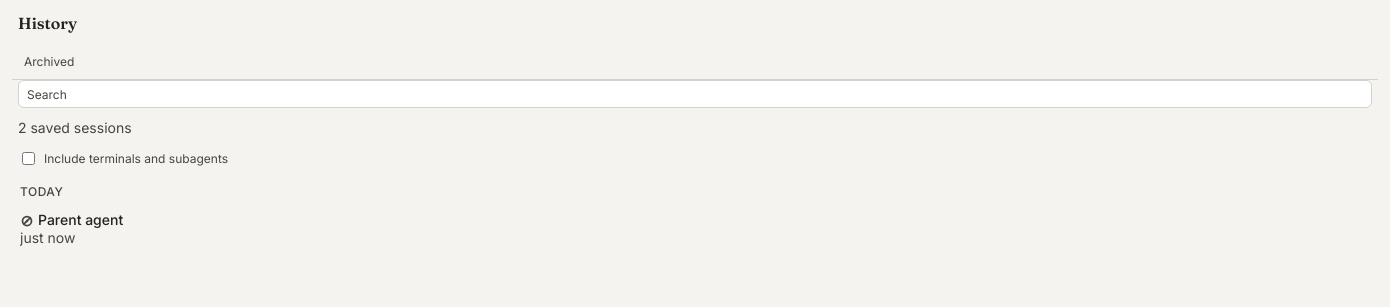
Test: HistoryPanel show-all, delete focus and row memo › persists the show-all toggle across opens
Expected: the text "Shell" is not shown
Click the checkbox labelled "Include terminals and subagents" at [28, 158], box left=22, top=152, right=35, bottom=165
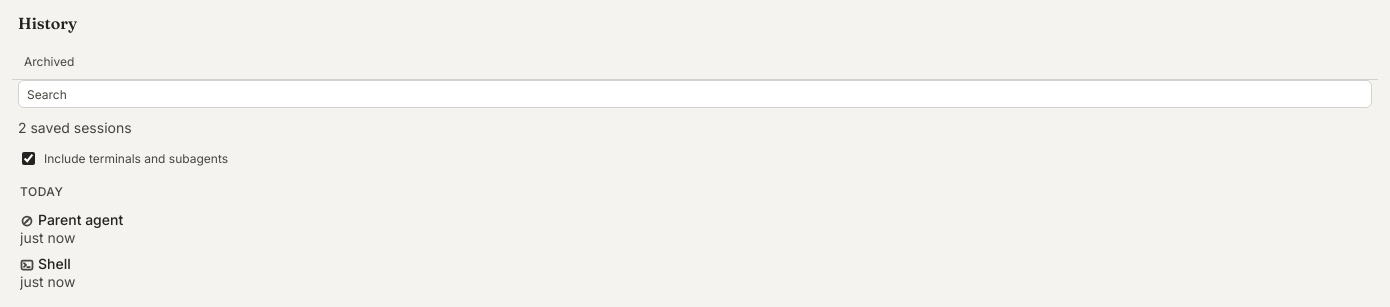
Now the checkbox labelled "Include terminals and subagents" is checked, box left=22, top=152, right=35, bottom=165
Now the text "Shell" is shown, box left=38, top=256, right=71, bottom=272
